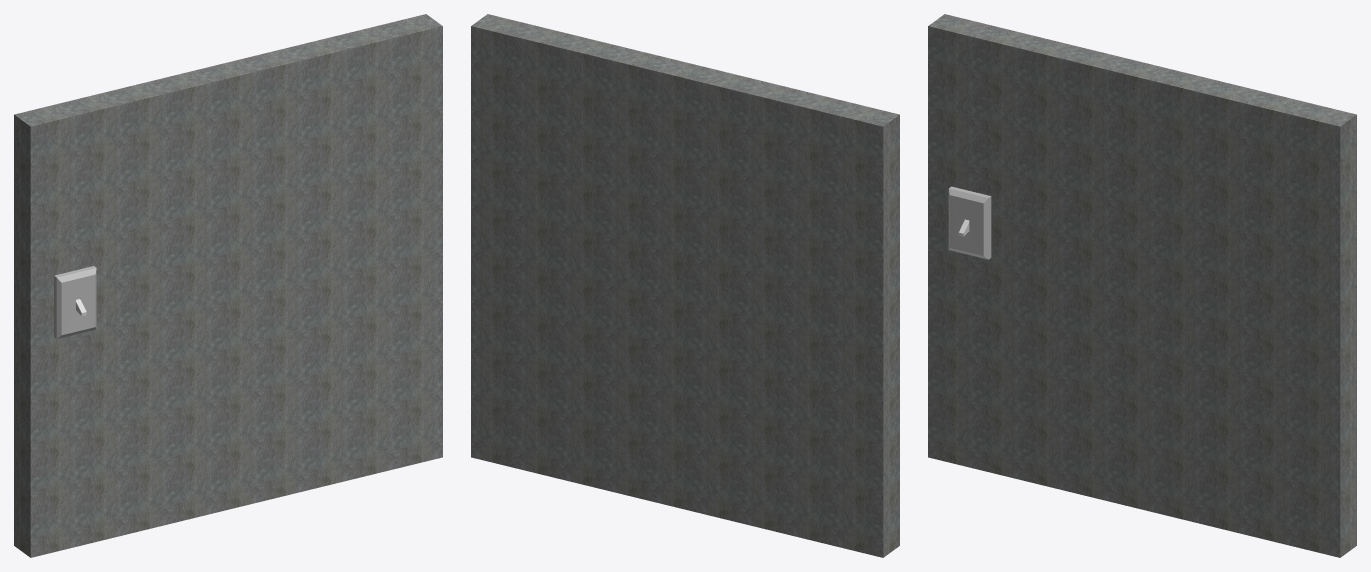
File: FbxInterruptor.fbx
The picture shows the model from 3 angles, left to right: view 1: azimuth 30°, elevation 25°; view 2: azimuth 150°, elevation 25°; view 3: azimuth 330°, elevation 25°; orthographic projection.
Parts seen in each view (by area): view 1: wall, Interruptor; view 2: wall; view 3: wall, Interruptor.
Part boxes in pixels (bbox=[...]): wall: bbox=[14, 14, 442, 557]; Interruptor: bbox=[54, 266, 96, 338]; wall: bbox=[471, 14, 899, 557]; wall: bbox=[928, 14, 1356, 557]; Interruptor: bbox=[948, 186, 991, 259].
Bounding box in the file's own units: 200 × 200 × 22.56.
3 materials, 1 textured.
